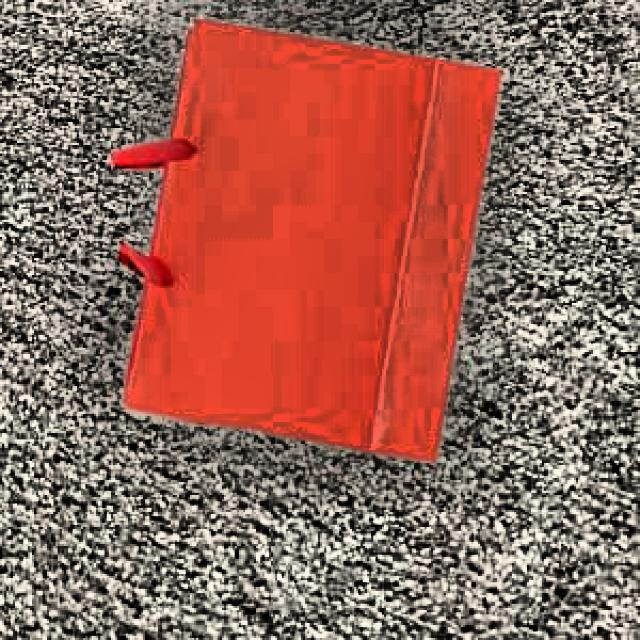Paper-bag: (109, 12, 512, 469)
